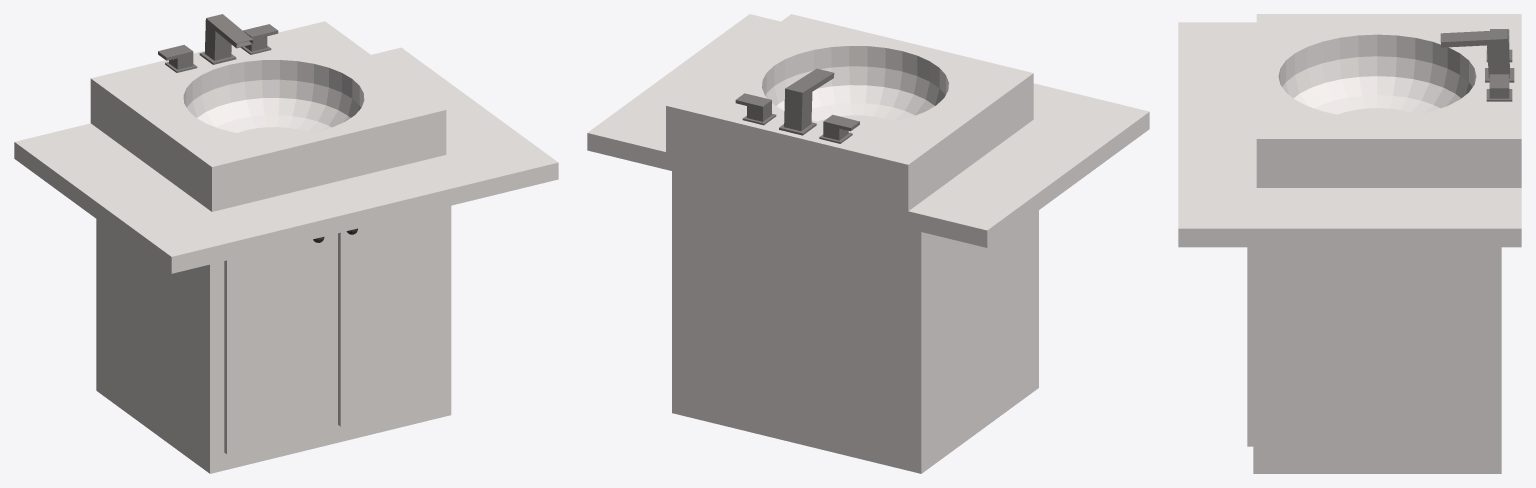
Rendered from Shower Table_04.fbx.
3 renders of one model, left to right at view 1: azimuth 30°, elevation 25°; view 2: azimuth 150°, elevation 25°; view 3: azimuth 270°, elevation 25°, orthographic. The views are drawn at different scales.
Parts seen in each view (by area): view 1: Shower Table_04; view 2: Shower Table_04; view 3: Shower Table_04.
Boxes of the visible parts, box(x1,y1,x2,y2) form: Shower Table_04: box(14, 14, 558, 473); Shower Table_04: box(587, 14, 1149, 473); Shower Table_04: box(1178, 14, 1521, 473).
Bounding box in the file's own units: 105 × 88.95 × 73.81.
